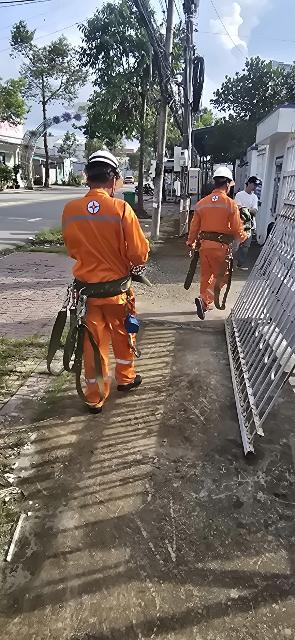harness: (60, 268, 139, 315), (193, 226, 241, 249)
helmet: (81, 144, 139, 178), (213, 161, 243, 191)
shoes: (78, 386, 116, 427), (193, 294, 217, 326), (120, 373, 153, 393)
